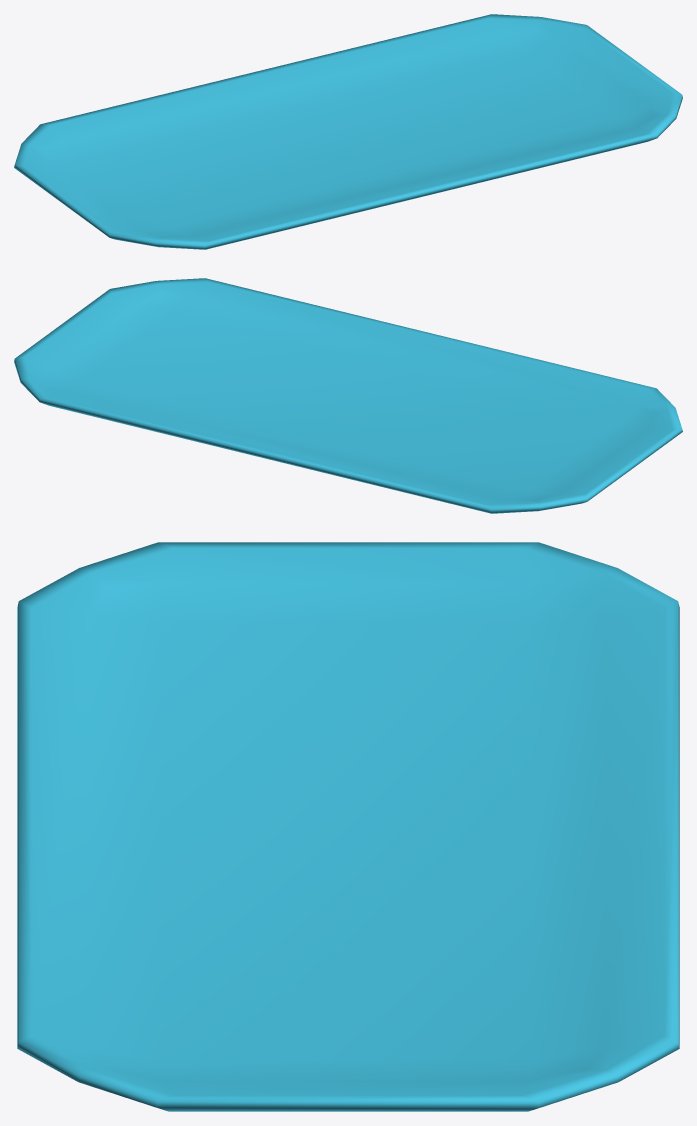
Rendered from serving platter.FBX.
3 renders of one model, top to bottom at view 1: azimuth 30°, elevation 25°; view 2: azimuth 150°, elevation 25°; view 3: azimuth 270°, elevation 25°, orthographic. The views are drawn at different scales.
Visible parts, largest first — view 1: Line043; view 2: Line043; view 3: Line043.
Part boxes in pixels (<box>): Line043: <box>14,14,682,249</box>; Line043: <box>14,278,682,513</box>; Line043: <box>17,542,679,1111</box>.
Size of the model in its own units: 87.56 by 5.68 by 43.79.
